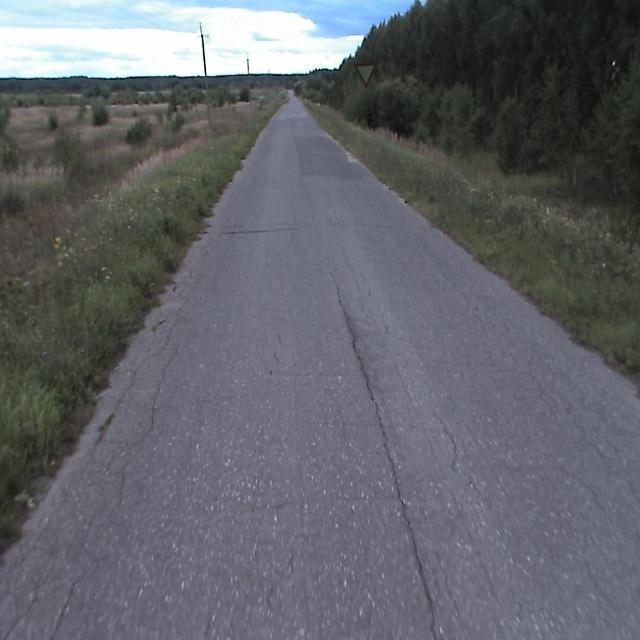road: (0, 105, 639, 639)
